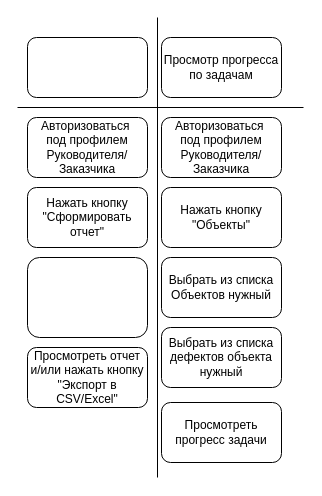
Some shapes in this 322 by 496 pixel diagram are drawn without their labels. The shapes that lost their labels are listed below. From the top down, each one's box as (x1, y1, x2, y2) in pixels, then its label:
(26, 36, 148, 98): Просмотреть отчет
(26, 256, 148, 338): Выбрать по чему сформировать отчет (Инженер, объект, дефект)
